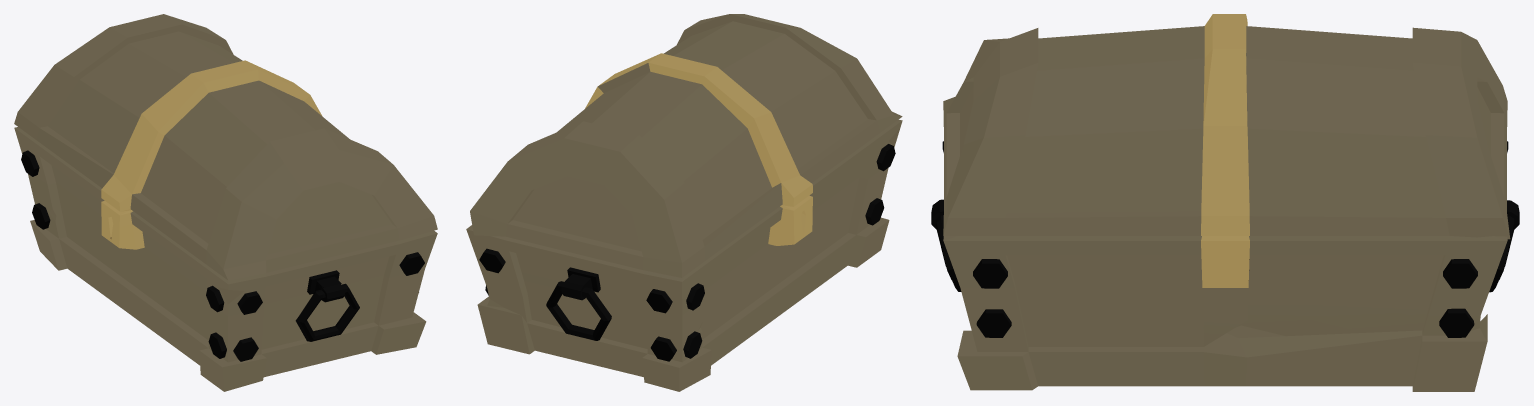
The model's file is Chest.FBX.
3 renders of one model, left to right at view 1: azimuth 30°, elevation 25°; view 2: azimuth 150°, elevation 25°; view 3: azimuth 270°, elevation 25°, orthographic. The views are drawn at different scales.
Visible parts, largest first — view 1: Chest; view 2: Chest; view 3: Chest.
Part boxes in pixels (x1,y1,x2,y2): Chest: [14, 14, 437, 391]; Chest: [466, 14, 902, 391]; Chest: [931, 14, 1519, 391].
Size of the model in its own units: 2.79 by 2.71 by 4.83.
